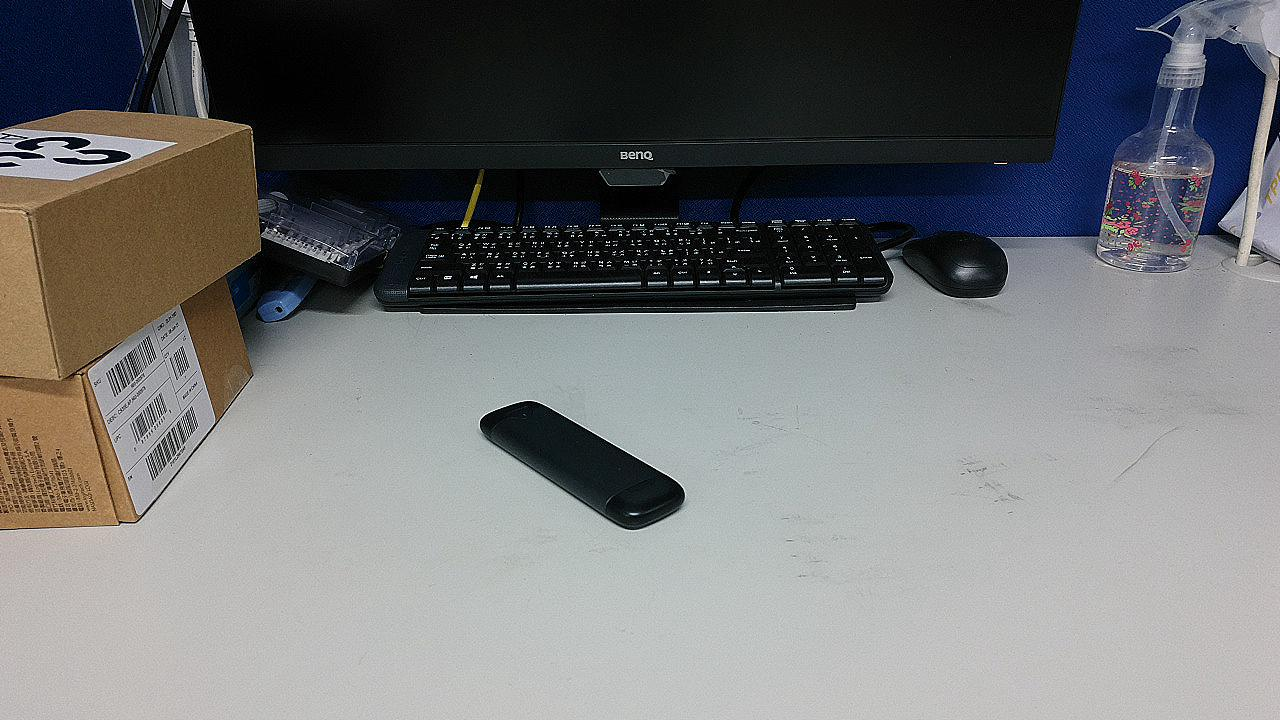blade: (411, 426, 530, 511)
grasp: (277, 503, 438, 618)
